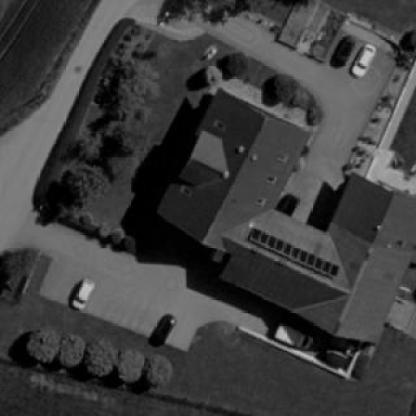solar-pv-panel: (248, 227, 340, 277)
